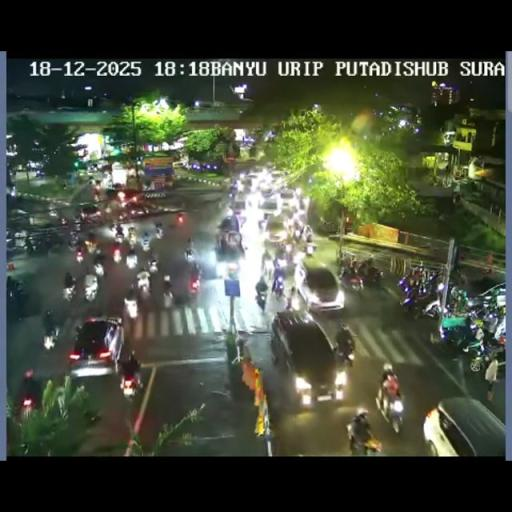Car: (270, 310, 342, 404), (425, 396, 504, 454), (68, 316, 125, 378), (297, 264, 343, 313), (469, 282, 505, 314), (107, 188, 147, 210), (264, 215, 288, 242), (258, 188, 282, 214), (76, 204, 102, 223), (278, 189, 297, 209), (242, 172, 260, 187), (231, 195, 247, 211), (270, 170, 284, 184)
Motorcycle: (255, 187, 316, 300), (122, 253, 194, 309), (62, 232, 108, 302), (459, 326, 504, 372), (398, 272, 440, 316), (375, 378, 405, 432), (348, 430, 382, 456), (119, 367, 141, 399), (340, 264, 365, 292), (224, 328, 238, 375), (448, 286, 470, 315), (42, 311, 58, 348), (332, 342, 354, 367), (362, 265, 384, 289), (490, 310, 506, 339), (188, 263, 202, 296), (14, 284, 28, 314), (19, 394, 35, 420), (270, 273, 286, 297), (294, 222, 311, 244), (254, 284, 268, 310), (124, 292, 138, 318), (47, 241, 67, 259), (135, 270, 151, 292), (450, 268, 468, 287), (82, 409, 102, 426), (62, 280, 76, 302), (84, 280, 98, 302), (162, 285, 174, 308), (218, 215, 234, 232), (124, 249, 138, 268), (288, 291, 301, 311), (6, 275, 16, 301), (92, 258, 105, 277), (84, 235, 97, 254), (292, 248, 305, 266), (262, 257, 274, 276), (244, 192, 258, 208), (304, 240, 317, 257), (140, 230, 151, 250), (74, 246, 86, 264), (111, 242, 123, 260), (6, 235, 16, 255), (113, 224, 124, 242), (47, 208, 60, 222), (127, 228, 137, 246), (148, 256, 158, 274), (282, 241, 293, 257), (184, 244, 194, 261), (25, 238, 35, 255), (276, 254, 287, 269), (72, 218, 82, 234), (296, 195, 306, 211), (236, 213, 246, 228), (68, 236, 78, 250), (258, 216, 268, 230), (228, 186, 237, 200), (104, 204, 113, 218), (154, 226, 164, 238), (59, 215, 69, 227), (216, 232, 222, 250), (482, 266, 492, 276), (93, 188, 100, 202), (74, 324, 82, 336), (87, 176, 95, 186), (236, 179, 242, 192)
